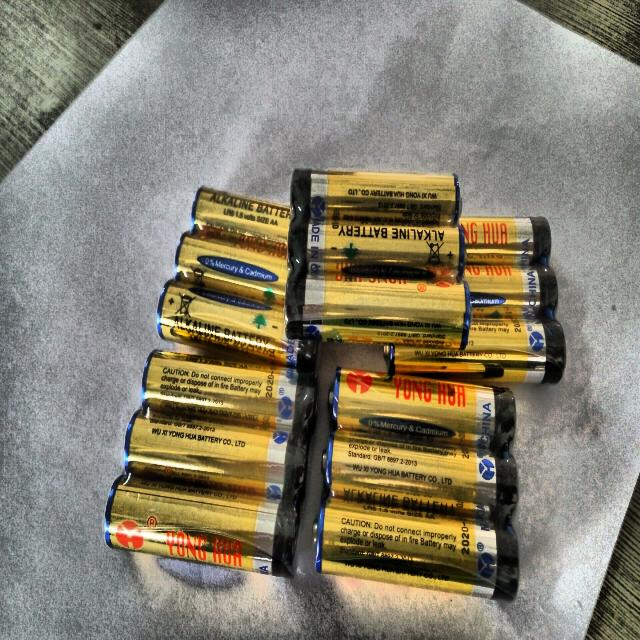Non-Valuable Waste - Batteries: (125, 352, 316, 503), (316, 500, 519, 600), (105, 475, 299, 576), (325, 430, 519, 523), (331, 368, 515, 452), (158, 282, 316, 372), (285, 275, 471, 348), (175, 188, 290, 305), (385, 318, 566, 383), (289, 222, 465, 282), (291, 170, 460, 225), (464, 263, 558, 318), (460, 217, 551, 265)
